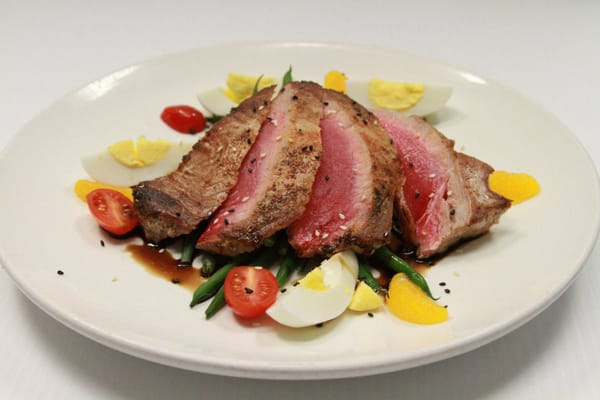curry: (6, 1, 599, 390)
